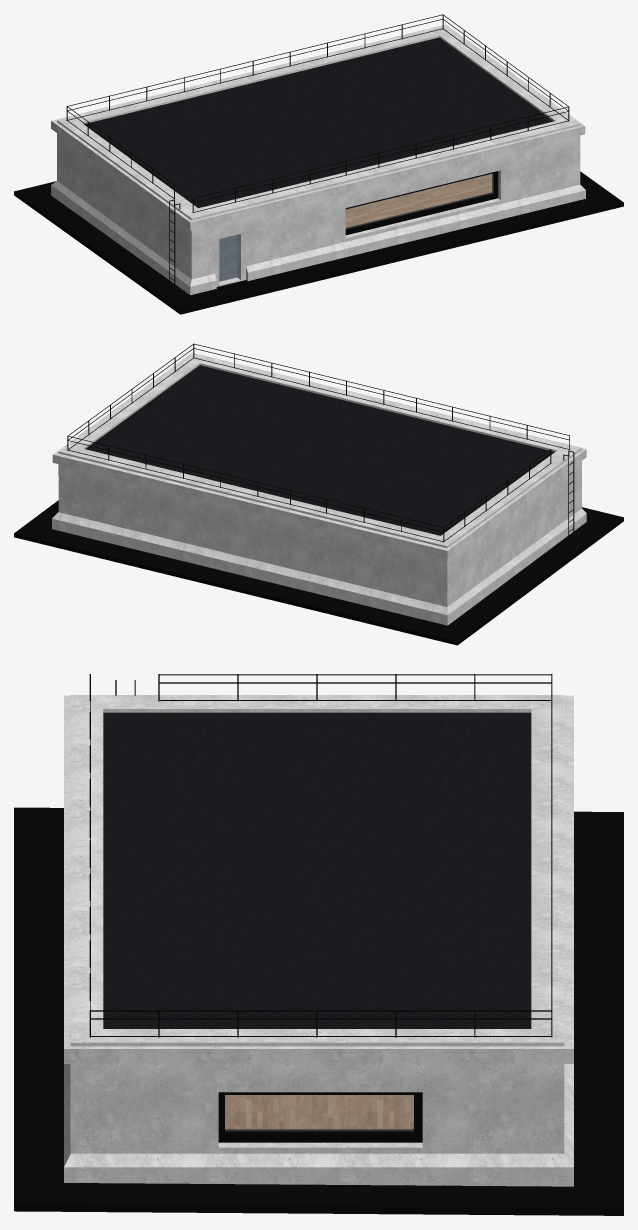
The model's file is low_poly_military_building.gltf.
3 renders of one model, top to bottom at view 1: azimuth 30°, elevation 25°; view 2: azimuth 150°, elevation 25°; view 3: azimuth 270°, elevation 25°, orthographic. The views are drawn at different scales.
Parts seen in each view (by area): view 1: Roof_Roof_1_0-col, Walls_Outer_Walls_0-col, Outer_Floor_O_floor_0-col, Inner_Floor_Outer_Walls_0-col, Roof_Outer_Walls_0-col, Railing_Railing_0-col, glass_1, Inner_Floor_Floor_1_0-col, window_1_window_0-col, Door_1_Door_0-col; view 2: Roof_Roof_1_0-col, Walls_Outer_Walls_0-col, Outer_Floor_O_floor_0-col, Inner_Floor_Outer_Walls_0-col, Roof_Outer_Walls_0-col, Railing_Railing_0-col; view 3: Roof_Roof_1_0-col, Walls_Outer_Walls_0-col, Outer_Floor_O_floor_0-col, Inner_Floor_Outer_Walls_0-col, Roof_Outer_Walls_0-col, glass_2, Inner_Floor_Floor_1_0-col, Railing_Railing_0-col, window_2_window_0-col.
Part boxes in pixels (x1,y1,x2,y2): Roof_Roof_1_0-col: (84, 37, 553, 208); Walls_Outer_Walls_0-col: (57, 25, 580, 286); Outer_Floor_O_floor_0-col: (14, 171, 623, 314); Inner_Floor_Outer_Walls_0-col: (51, 181, 585, 295); Roof_Outer_Walls_0-col: (51, 24, 585, 230); Railing_Railing_0-col: (66, 14, 569, 212); glass_1: (346, 174, 493, 228); Inner_Floor_Floor_1_0-col: (345, 174, 491, 227); window_1_window_0-col: (345, 171, 498, 235); Door_1_Door_0-col: (219, 235, 236, 281); Roof_Roof_1_0-col: (85, 365, 554, 535); Walls_Outer_Walls_0-col: (58, 353, 581, 606); Outer_Floor_O_floor_0-col: (14, 500, 623, 645); Inner_Floor_Outer_Walls_0-col: (52, 508, 586, 625); Roof_Outer_Walls_0-col: (52, 353, 586, 558); Railing_Railing_0-col: (67, 343, 569, 542); Roof_Roof_1_0-col: (103, 712, 531, 1028); Walls_Outer_Walls_0-col: (70, 695, 564, 1153); Outer_Floor_O_floor_0-col: (14, 807, 623, 1215); Inner_Floor_Outer_Walls_0-col: (64, 1064, 573, 1186); Roof_Outer_Walls_0-col: (64, 695, 573, 1063); glass_2: (225, 1095, 413, 1130); Inner_Floor_Floor_1_0-col: (225, 1095, 413, 1129); Railing_Railing_0-col: (89, 674, 552, 1037); window_2_window_0-col: (218, 1092, 422, 1142).
Size of the model in its own units: 28.53 by 5.87 by 18.54.
Materials: 11 (7 with a texture image).
